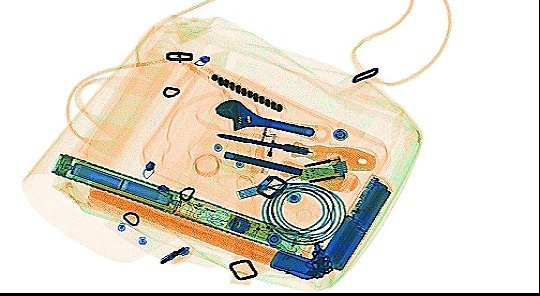lighter: (245, 118, 281, 178)
powerbank: (312, 172, 392, 271)
